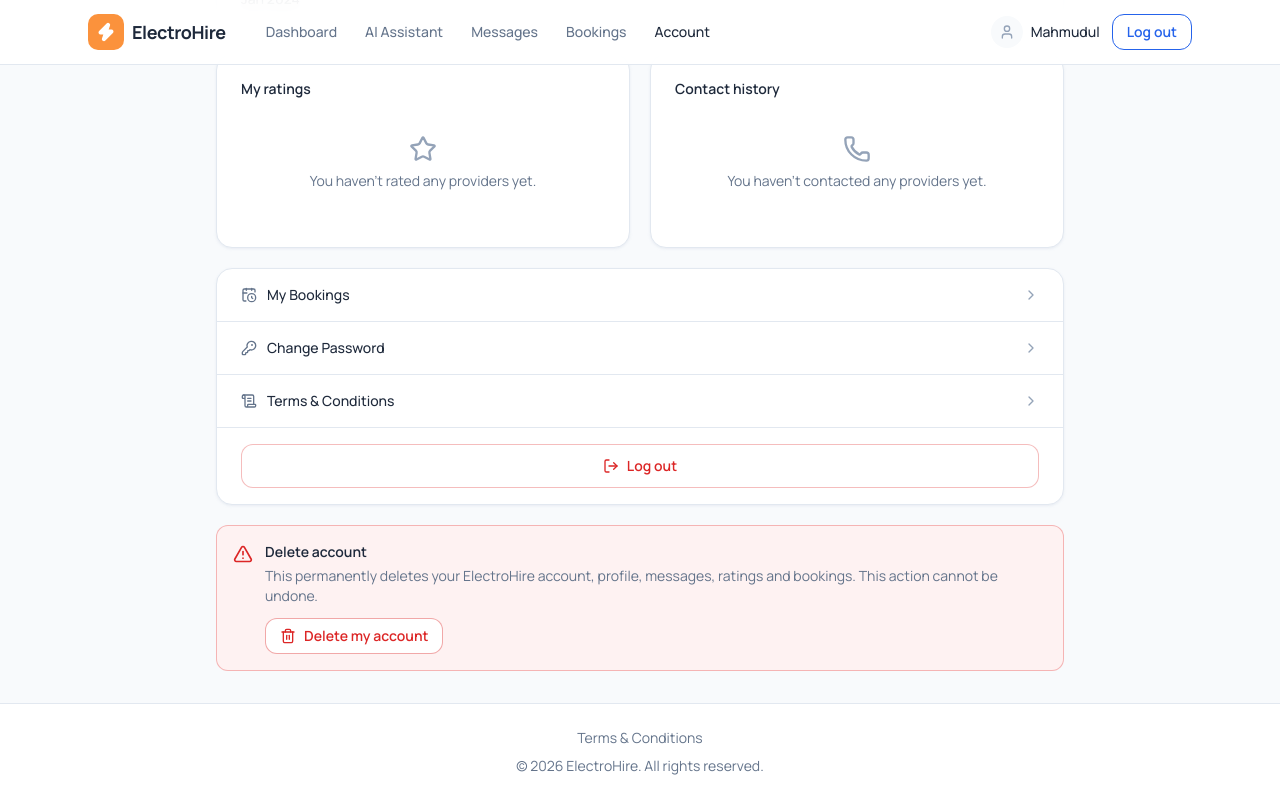
Scenario: AccountPage — Delete account › opens a confirmation dialog asking for the current password
The width and height of the screenshot is (1280, 800).
(page scrolled)
Click the button "Delete my account" at (354, 636), box [265, 618, 444, 654]
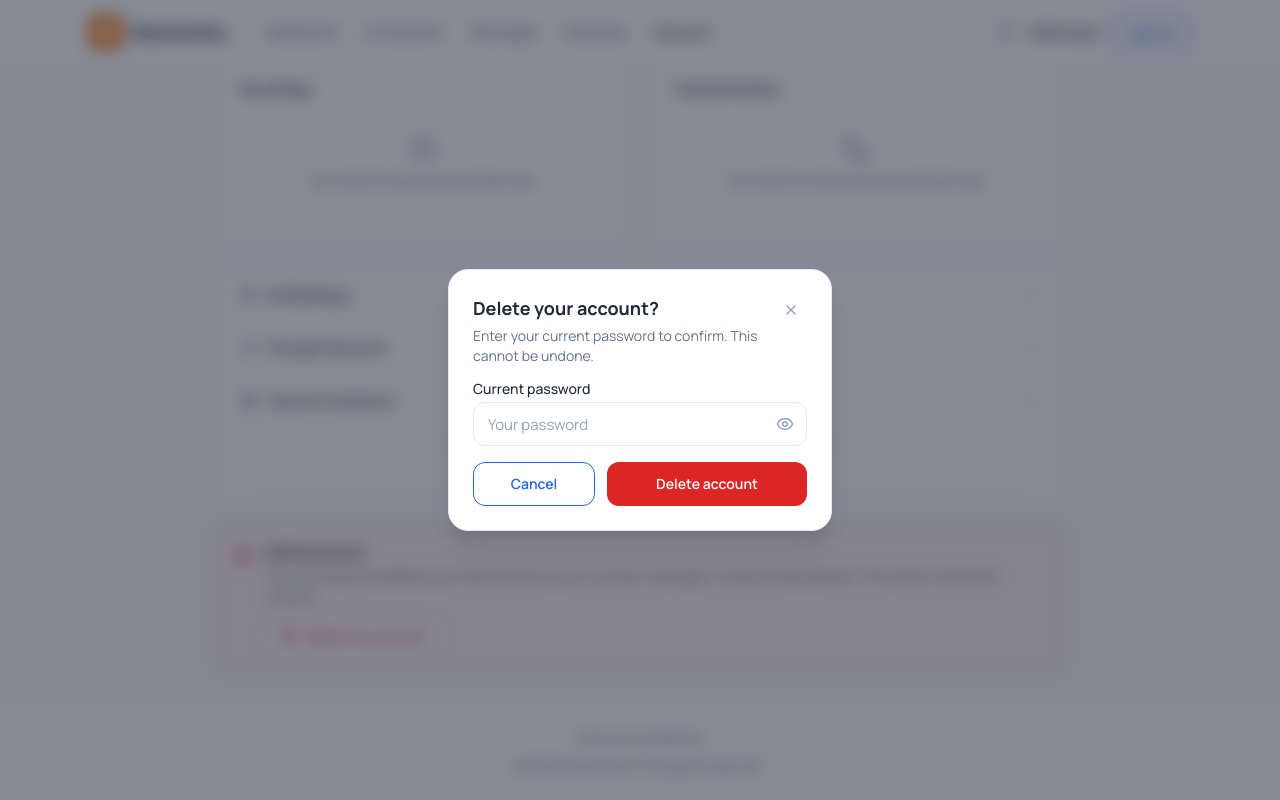
Expected: the heading "Delete your account?" is shown, [473, 296, 659, 320]
Expected: the password field labelled "Current password" is shown, [473, 402, 807, 446]
